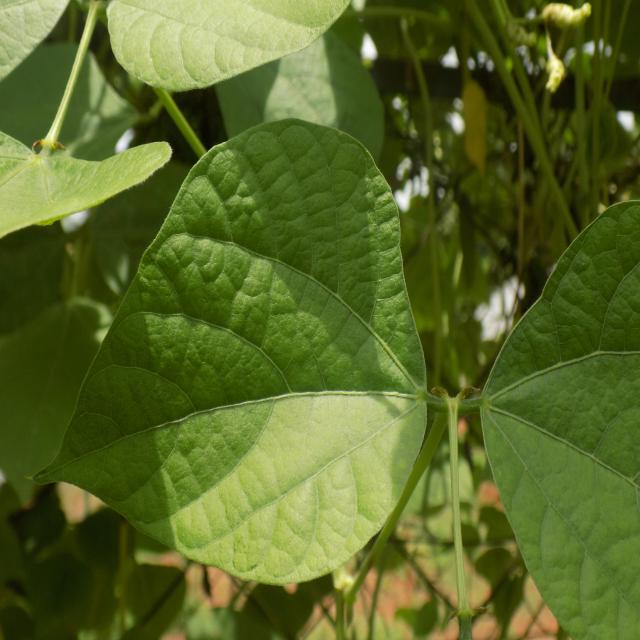Dolicos bean_healthy: (34, 120, 437, 584)
